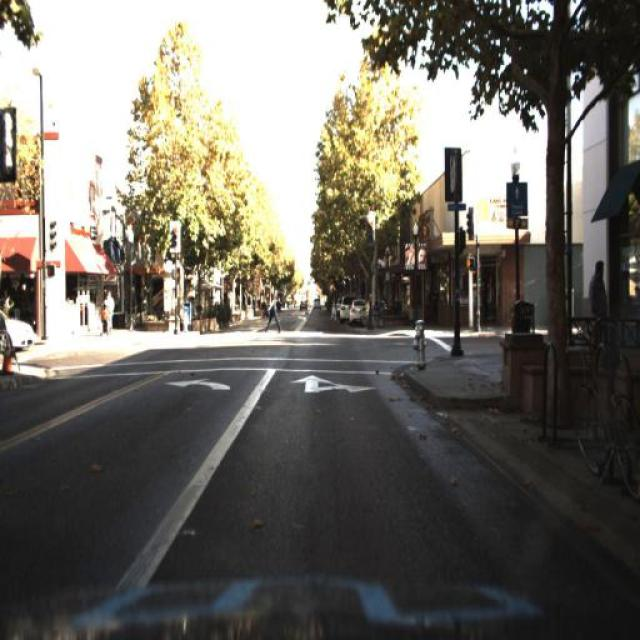car: (0, 291, 39, 360), (348, 293, 368, 331), (350, 298, 370, 328), (340, 292, 351, 328)
trafficLight: (260, 286, 282, 340), (94, 290, 112, 340), (424, 276, 440, 324), (102, 287, 116, 337), (328, 290, 342, 328), (105, 285, 117, 323), (328, 290, 339, 326)
trafficLight-RedLeft: (168, 218, 184, 266), (365, 208, 376, 252), (165, 222, 179, 256)
